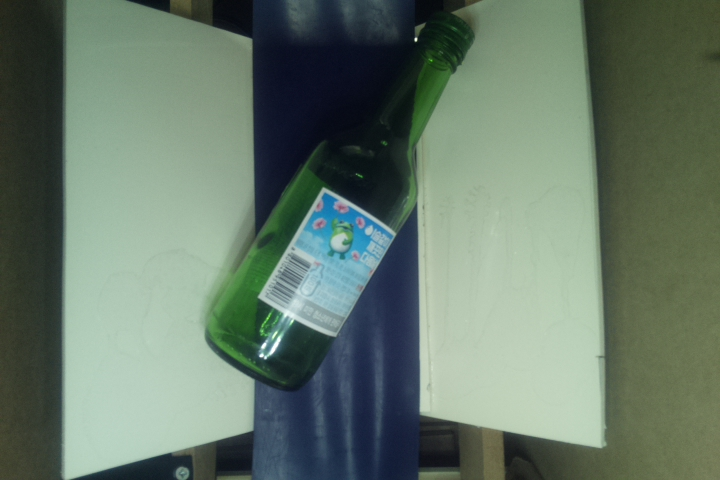soju: (206, 10, 482, 390)
